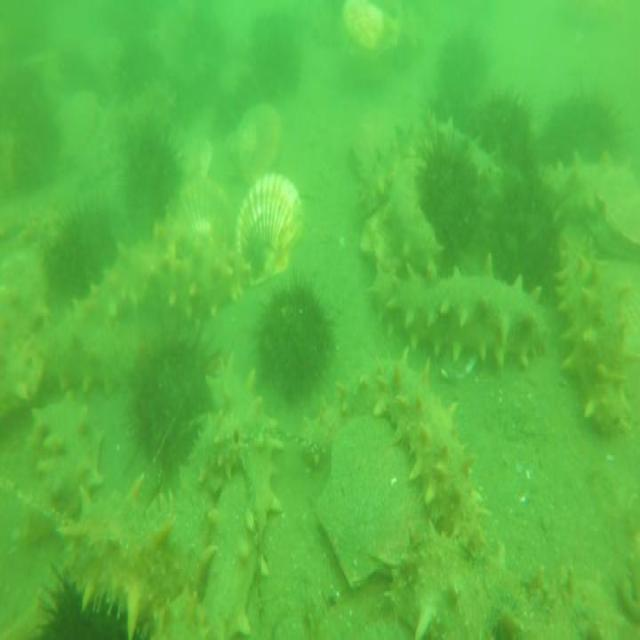echinus: (250, 278, 338, 411), (488, 169, 560, 294), (33, 558, 142, 640), (41, 199, 119, 307), (113, 114, 182, 229), (542, 82, 631, 169), (418, 145, 481, 264), (469, 87, 536, 166), (250, 13, 304, 104), (10, 101, 65, 190), (436, 27, 490, 98), (110, 33, 163, 100), (428, 72, 478, 132), (212, 70, 258, 132), (56, 44, 96, 98)
holothurian: (347, 349, 489, 555), (380, 520, 614, 640), (138, 412, 250, 640), (372, 253, 552, 381), (200, 352, 279, 637), (64, 477, 186, 632), (474, 254, 548, 479), (557, 221, 631, 436), (52, 226, 162, 367), (24, 392, 106, 515), (0, 240, 49, 412), (409, 101, 495, 193), (164, 224, 246, 313), (388, 153, 442, 277), (358, 118, 421, 216), (552, 145, 610, 215)
scallop: (316, 408, 438, 588), (238, 169, 303, 275), (594, 246, 640, 366), (227, 100, 285, 192), (593, 158, 640, 267), (172, 177, 236, 256), (337, 0, 405, 60), (55, 82, 100, 168), (171, 133, 215, 185)
